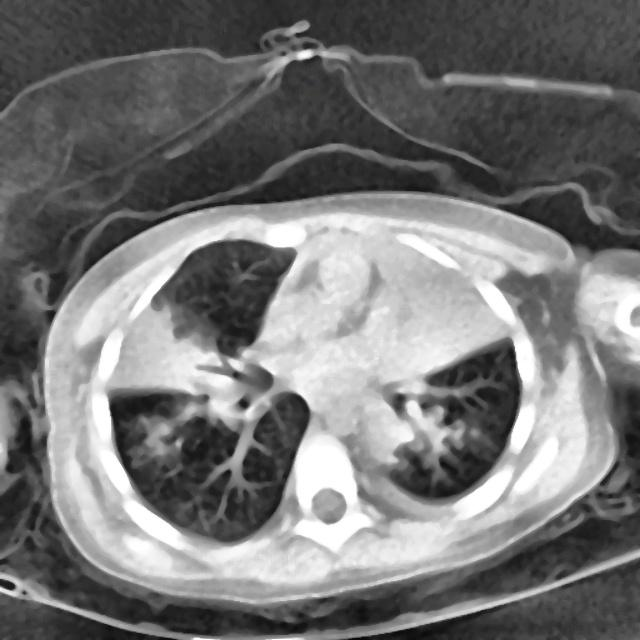covid: (41, 188, 624, 617)
